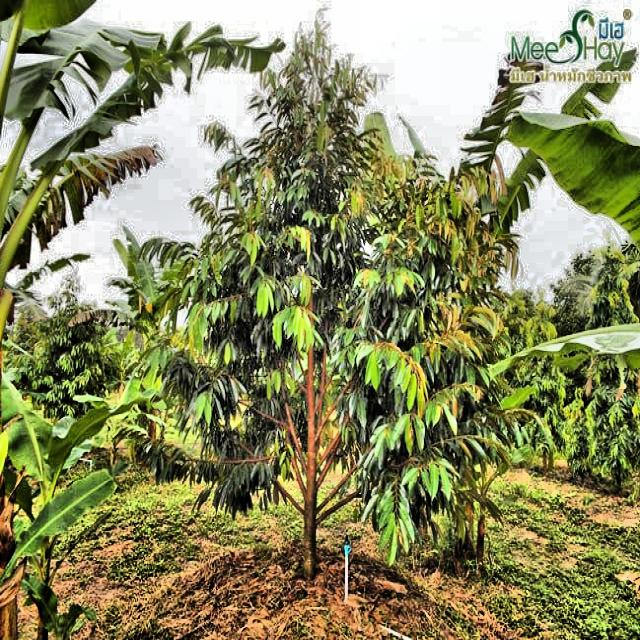arvore: (290, 298, 330, 598)
